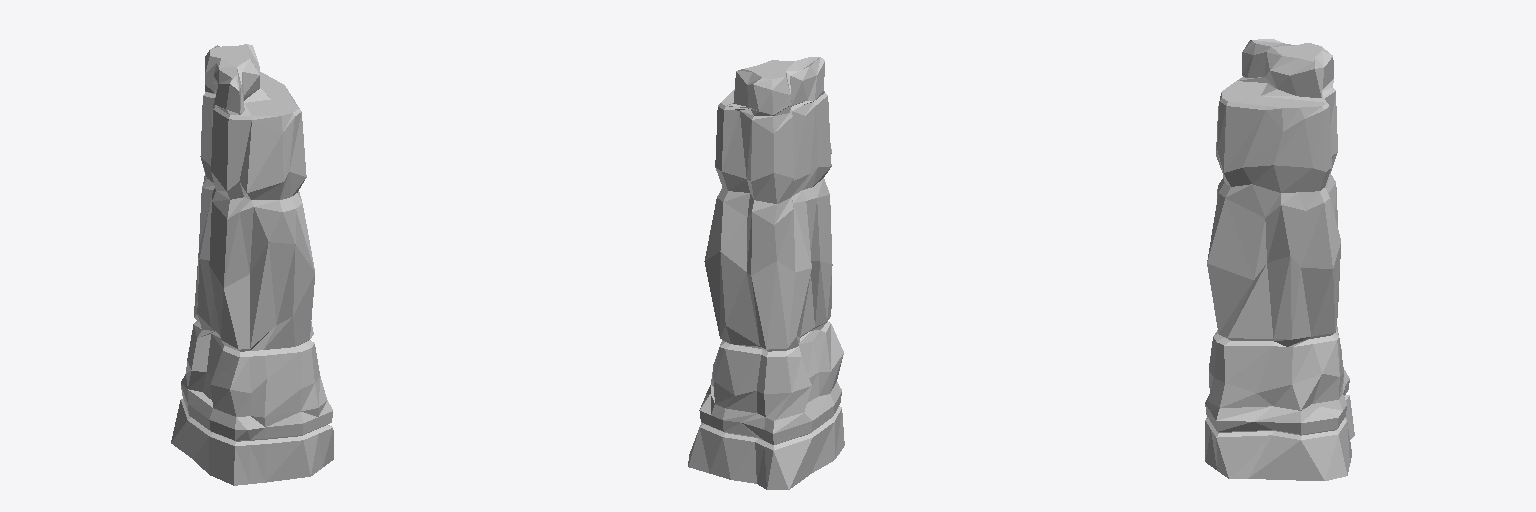
File: rock.obj
3 renders of one model, left to right at view 1: azimuth 30°, elevation 25°; view 2: azimuth 150°, elevation 25°; view 3: azimuth 270°, elevation 25°, orthographic.
Parts seen in each view (by area): view 1: Rock; view 2: Rock; view 3: Rock.
Boxes of the visible parts, box(x1,y1,x2,y2) form: Rock: box(171, 44, 333, 485); Rock: box(688, 57, 844, 489); Rock: box(1205, 39, 1354, 480).
Size of the model in its own units: 165 by 547 by 188.